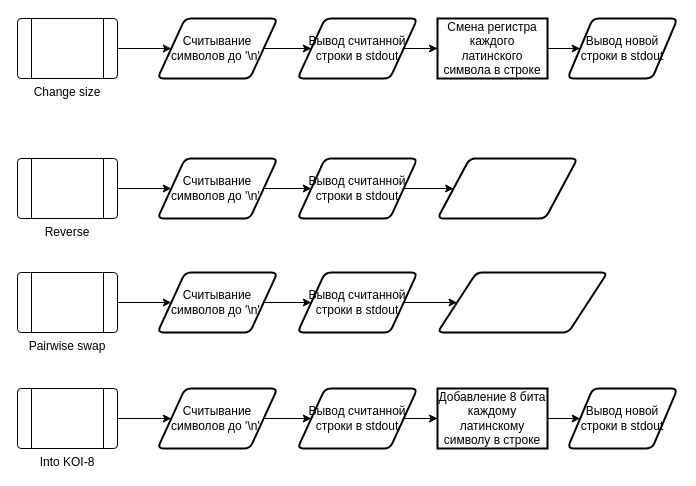
Some shapes in this 696 by 486 pixel diagram are drawn without their labels. Here are the shapes that lost their labels. From the top down, the box of each, then its label:
(436, 157, 578, 219): Вывод строки в обратном порядке в stdout
(436, 271, 608, 333): Вывод строки по паре символов в обратном порядке в stdout
